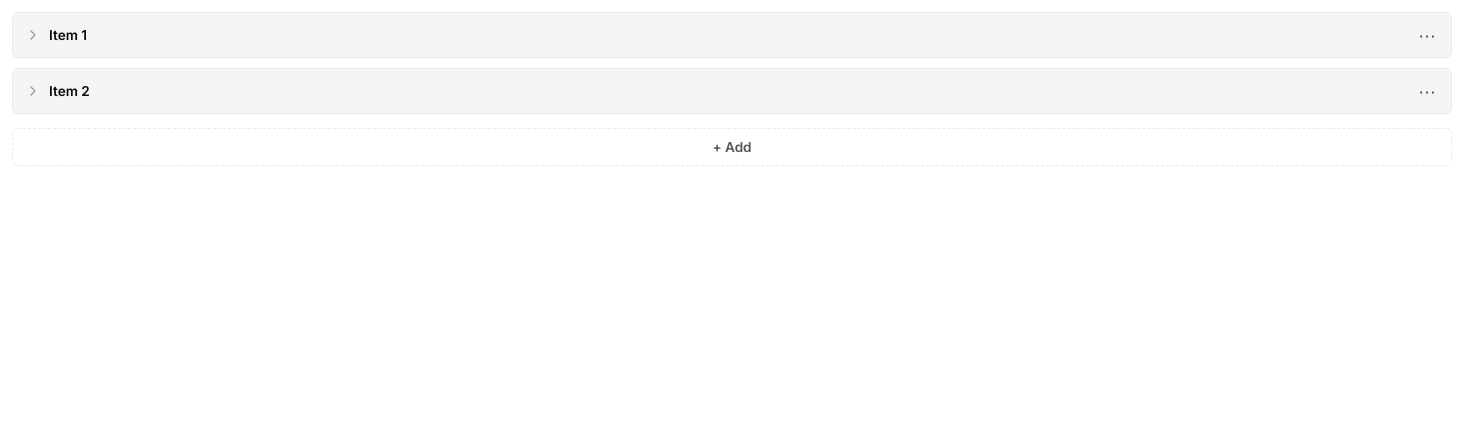
Test: EntryListEditor › expands a card on click and shows its fields; only one expanded at a time
The width and height of the screenshot is (1464, 422).
Click the button "Item 1" at coordinates (68, 35), box [13,13,1411,57]
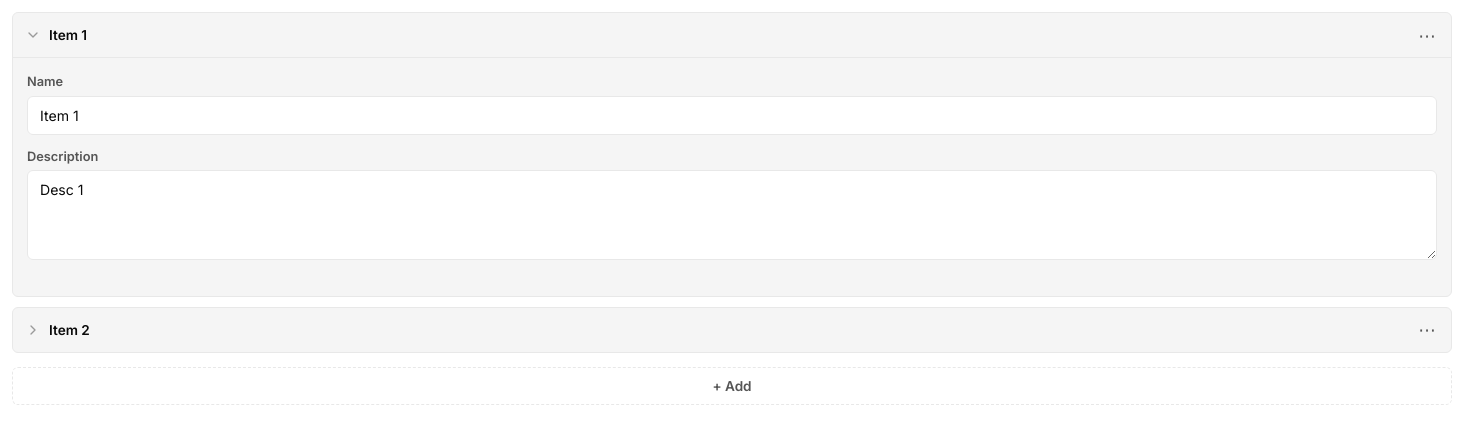
Check: the button "Item 1" is expanded, box [13,13,1411,57]
Check: the field showing "Item 1" is shown, box [27,96,1437,135]
Click the button "Item 2" at coordinates (69, 330), box [13,308,1411,352]
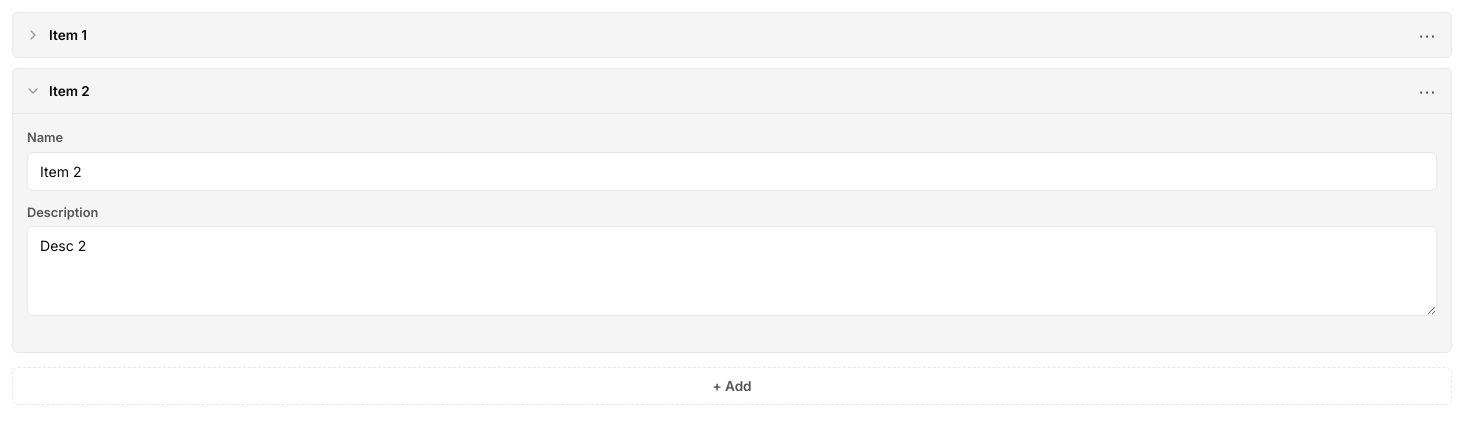
Check: the button "Item 2" is expanded
Check: the button "Item 1" is collapsed, box [13,13,1411,57]
Clicking the expanded card again collapses it.
Click the button "Item 2" at coordinates (69, 91), box [13,69,1411,113]
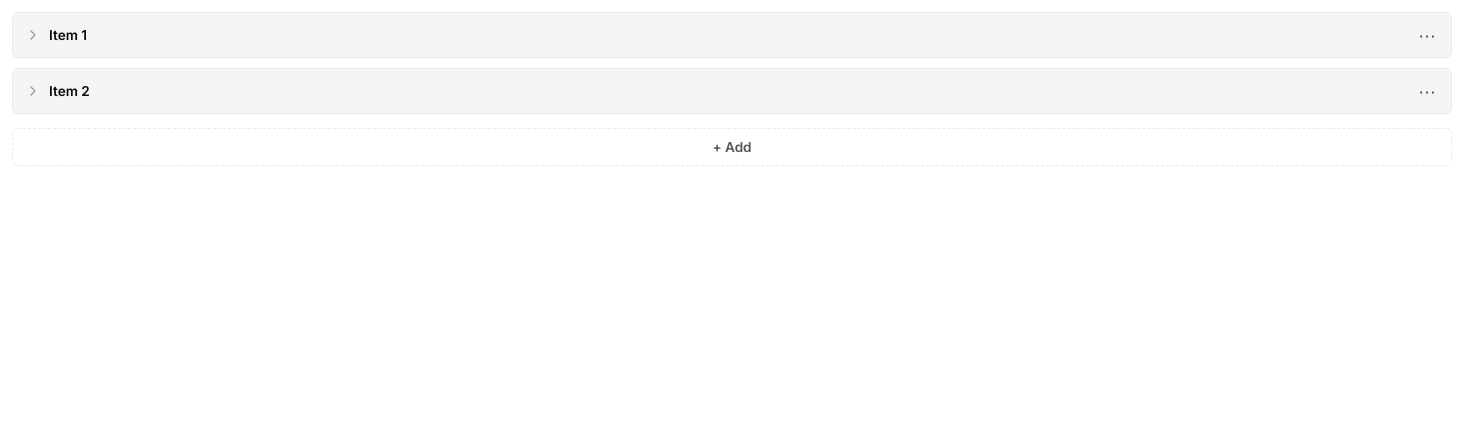
Check: the button "Item 2" is collapsed, box [13,69,1411,113]
